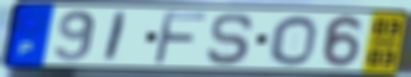6: (321, 13, 366, 70)
9: (53, 9, 97, 64)
F: (150, 10, 209, 66)
I: (101, 10, 131, 64)
O: (268, 14, 319, 67)
S: (204, 12, 257, 67)
